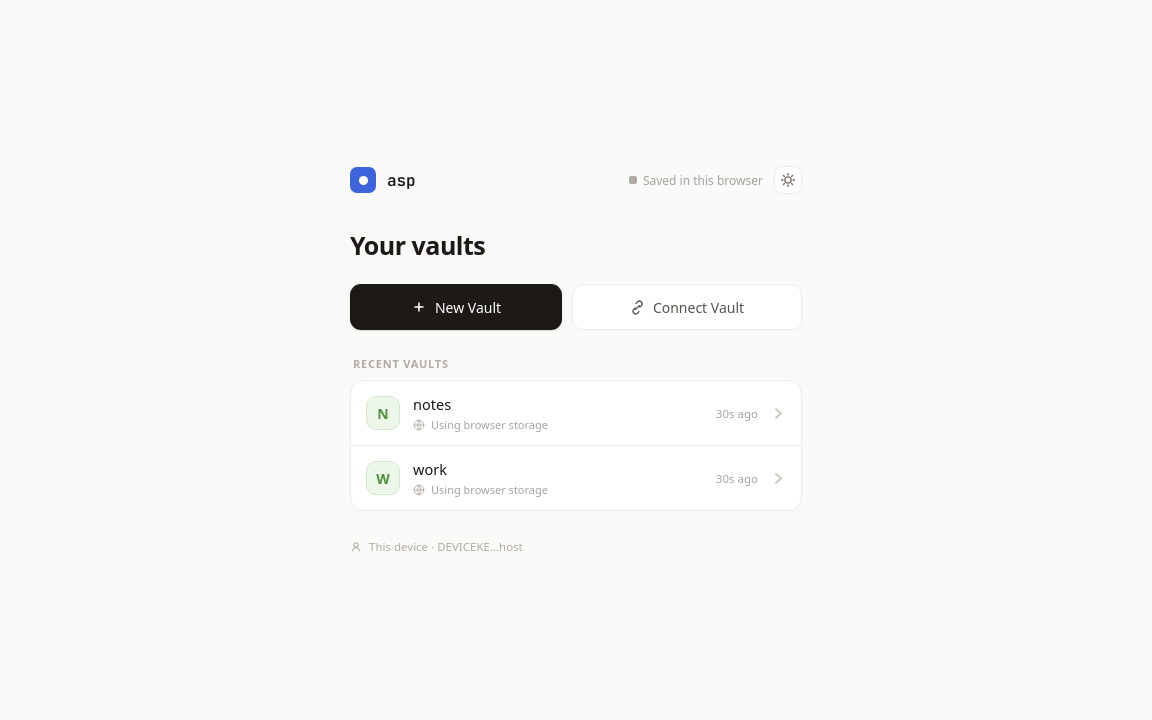
it: App — editor › Remove modal auto-focuses Cancel; Enter does NOT remove; Escape cancels
Click the text "notes" at (432, 404), box [413,394,451,414]
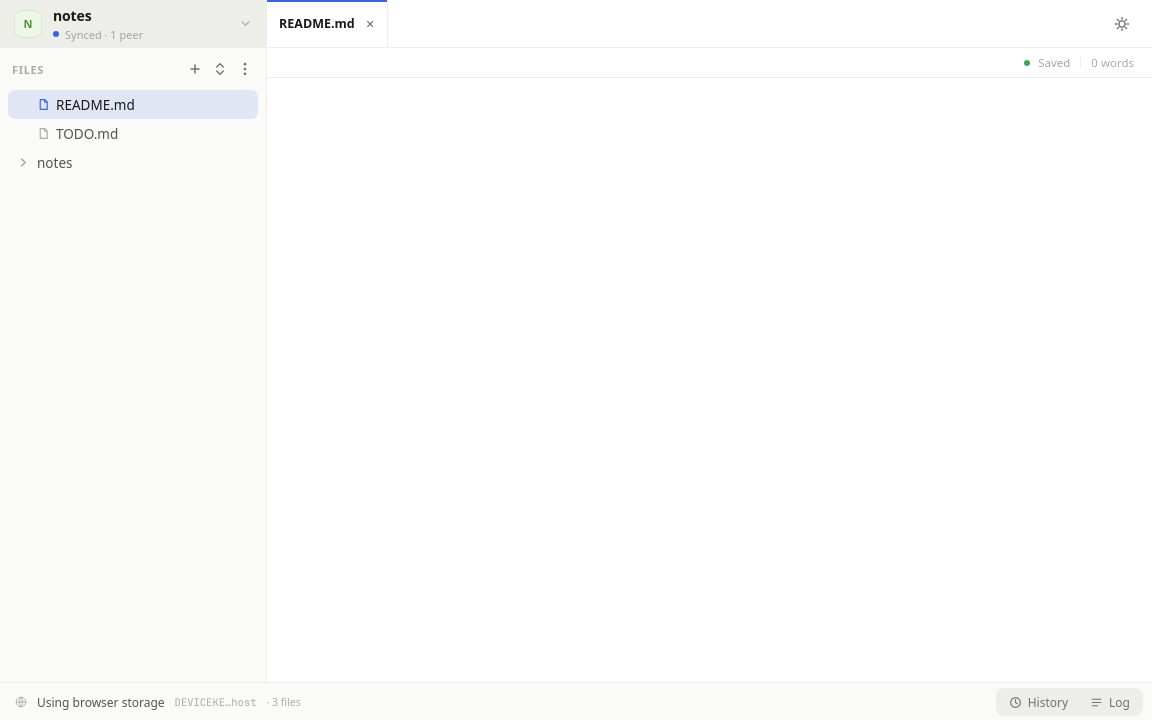
Expected: the text "Files" is shown, [12,62,44,76]
Click the element with test id "vault-switcher" at (133, 24), box [0,0,266,47]
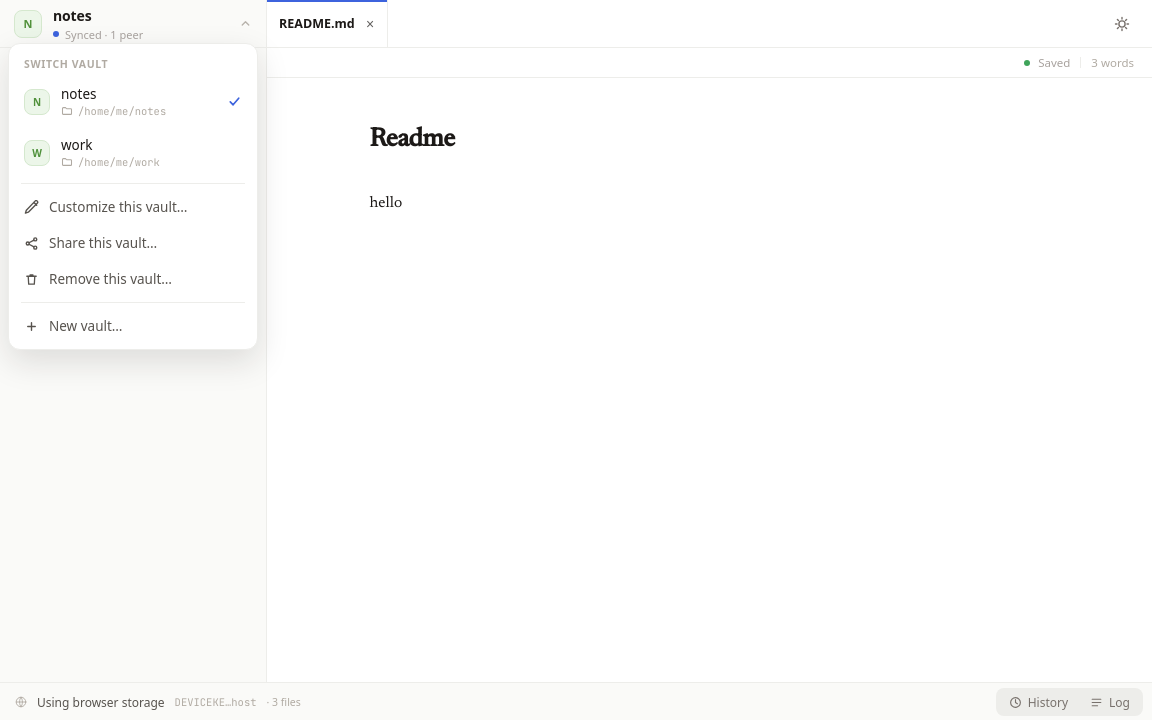
Click the text "Remove this vault…" at (110, 279), box [49,270,172,288]
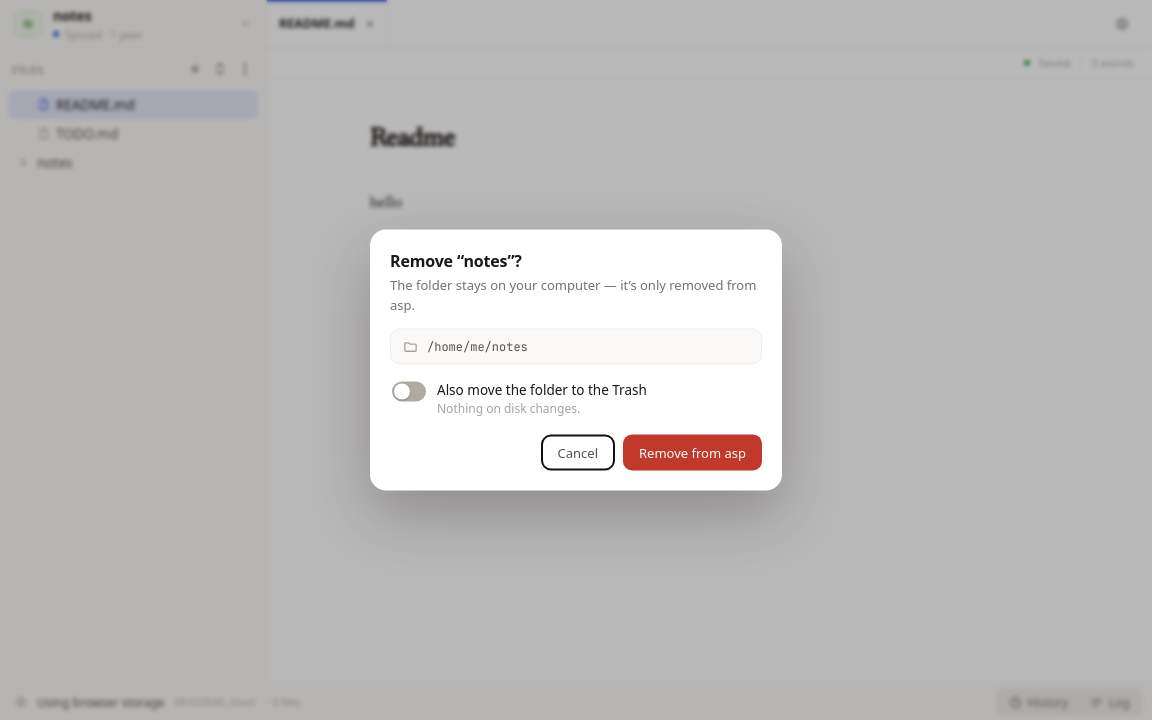
Press Enter in the button "Cancel", box [540,434,615,470]
Press Escape in the button "Cancel", box [540,434,615,470]
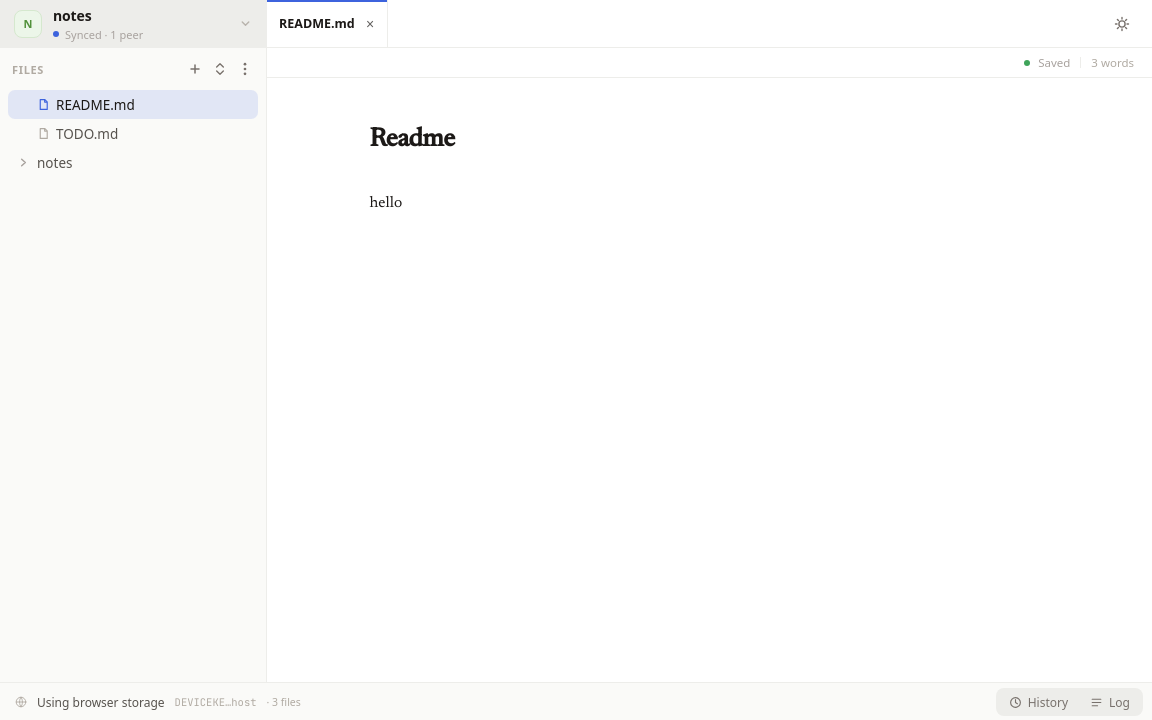
Expected: the button "Remove from asp" is gone
